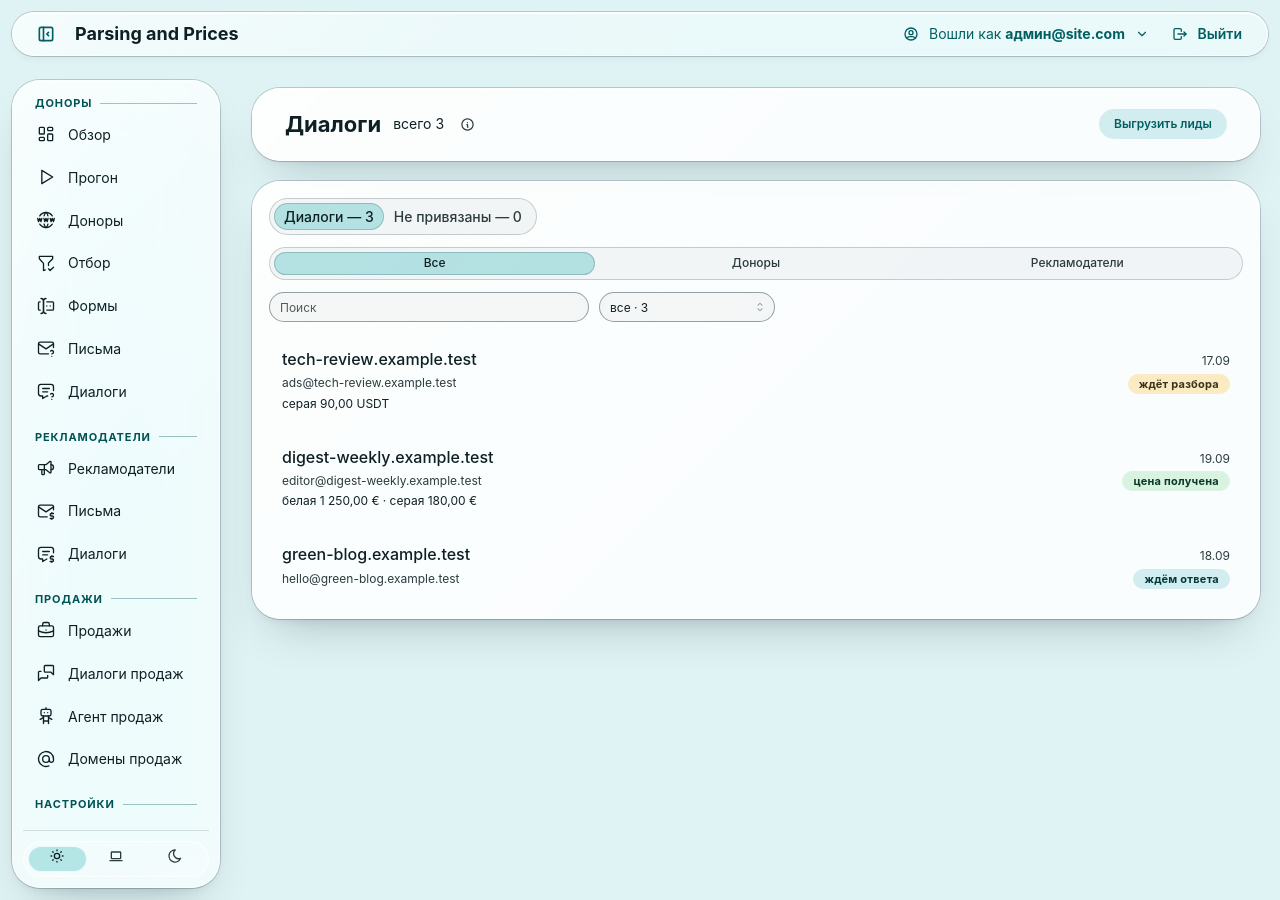
Test: диалоги › калибровка разбора — в подсказке «i» у заголовка
Expected: the text "digest-weekly.example.test" is shown, x1=282 y1=445 x2=494 y2=470
Hover over the button named "Как считается состояние диалога": (467, 124) x1=456 y1=113 x2=478 y2=135
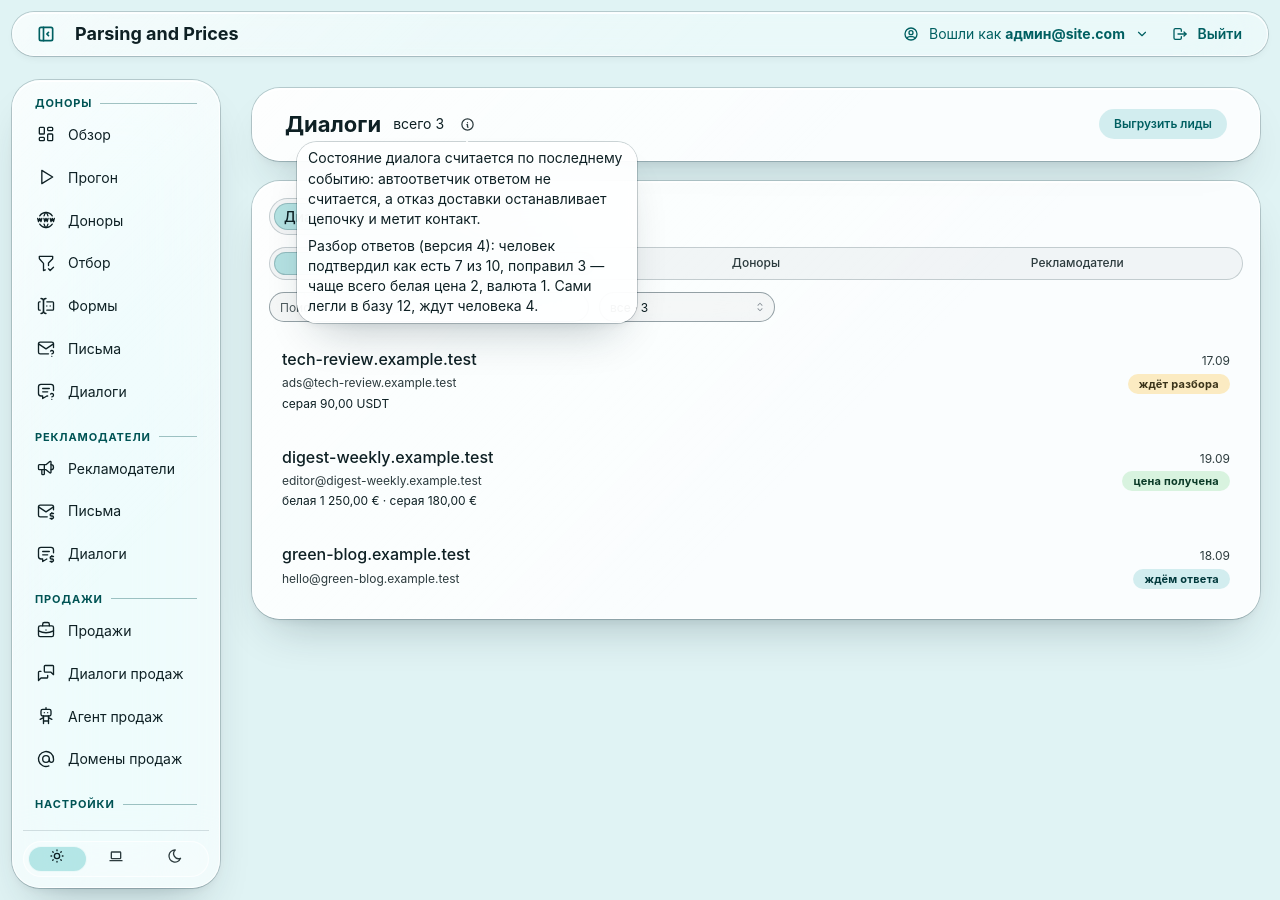
Result: the text "подтвердил как есть 7 из 10, поправил 3 — чаще всего белая цена 2, валюта 1" shows "Разбор ответов (версия 4):" at x1=308 y1=236 x2=626 y2=317
